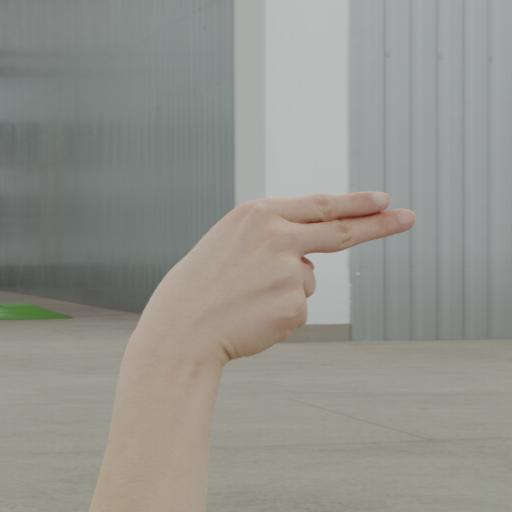H: (99, 180, 427, 381)
